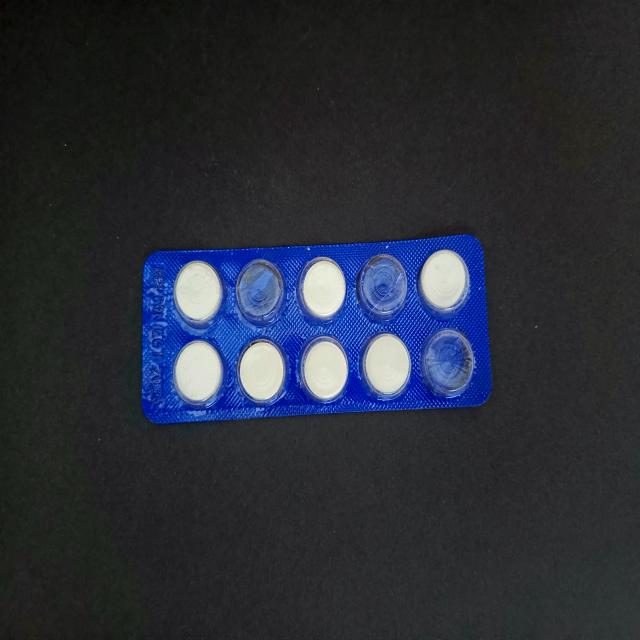defect: (419, 324, 478, 401), (354, 251, 410, 325), (234, 257, 289, 329)
